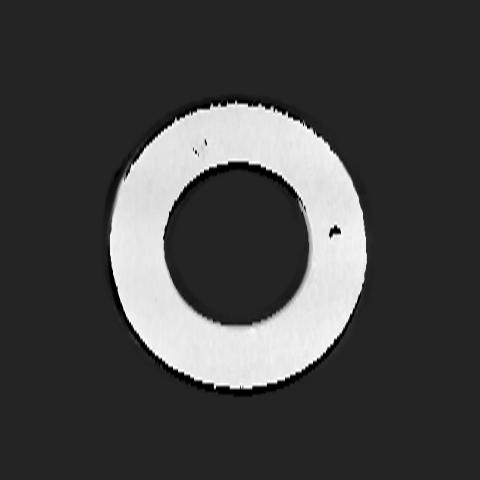defect: (329, 222, 341, 243)
